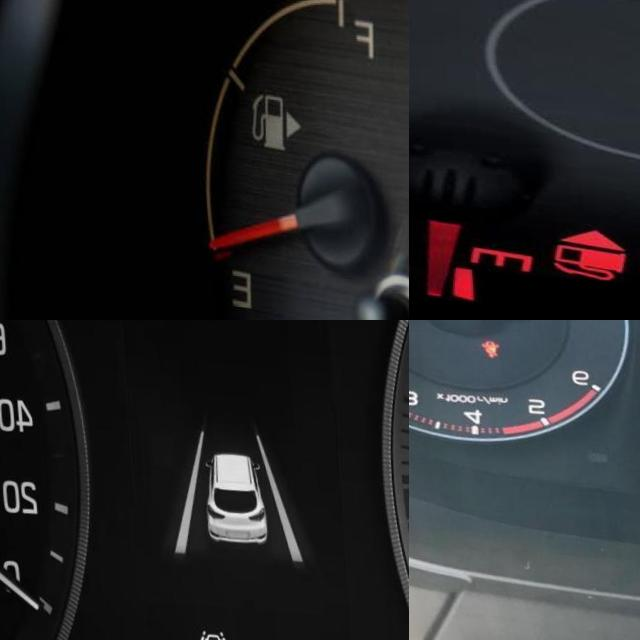Seat Belt: (476, 336, 497, 358)
